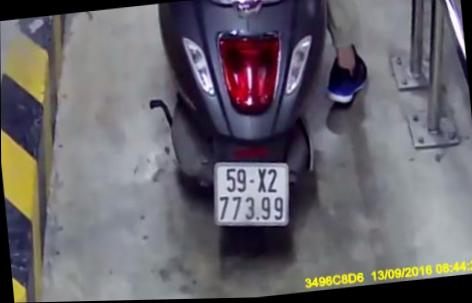LP: (208, 153, 296, 235)
